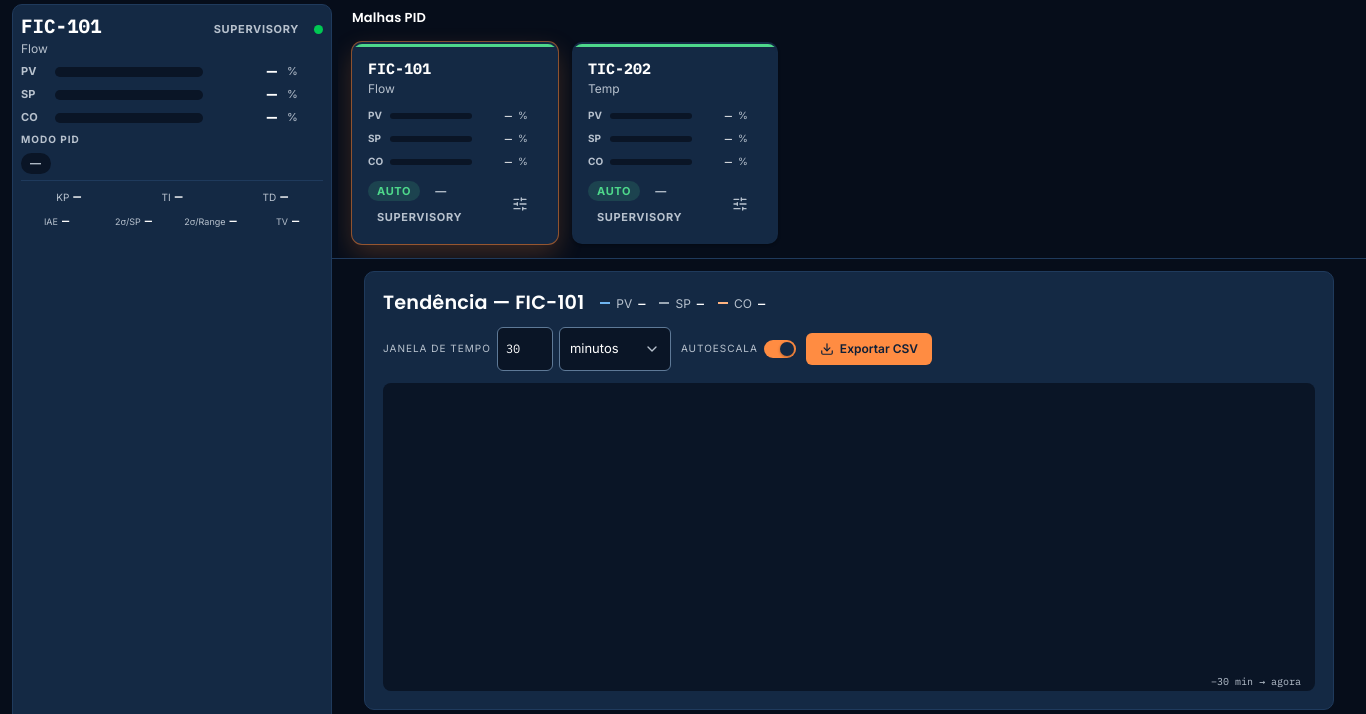
Test: DashboardPage › shows the first loop in the trend and faceplate, and follows the selection
This screenshot has width=1366, height=714.
Click the button "TIC-202" at (675, 143), box x1=572 y1=42 x2=778 y2=244
(page scrolled)
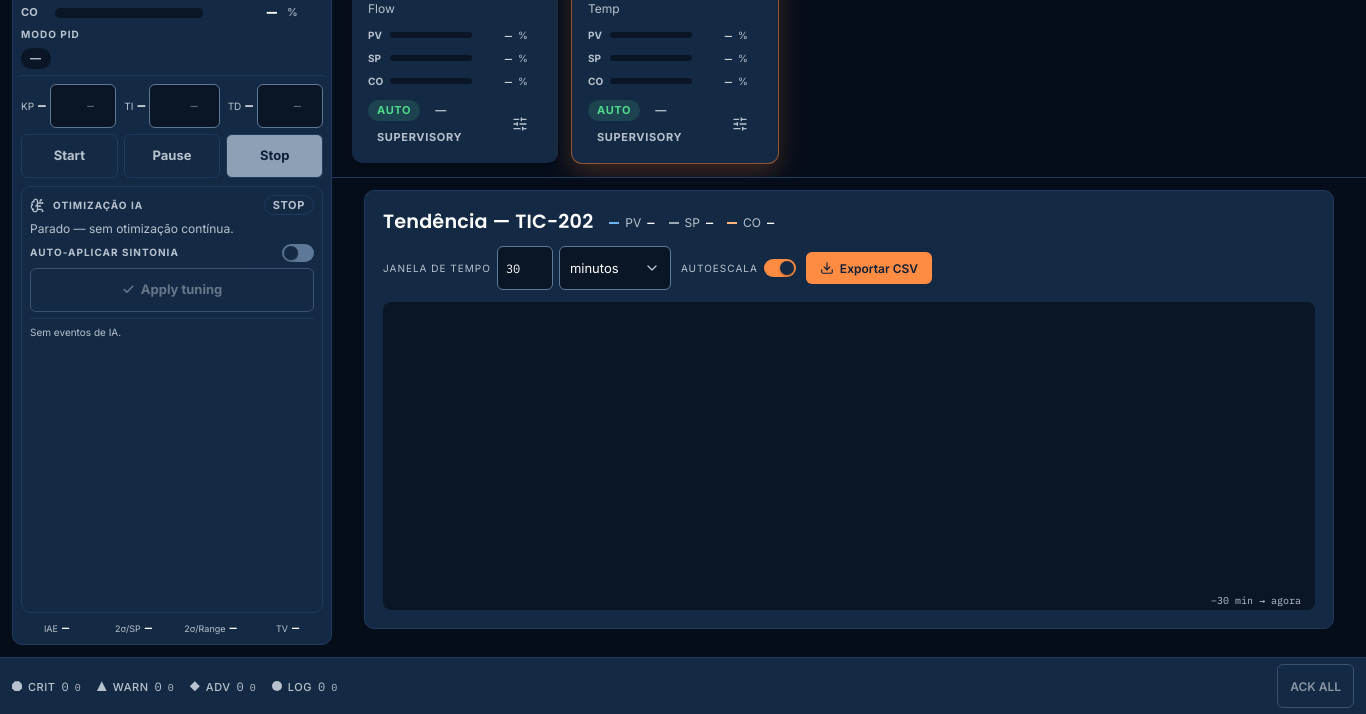
Check: the picture named "Tendência TIC-202" is shown, box x1=383 y1=302 x2=1315 y2=610
